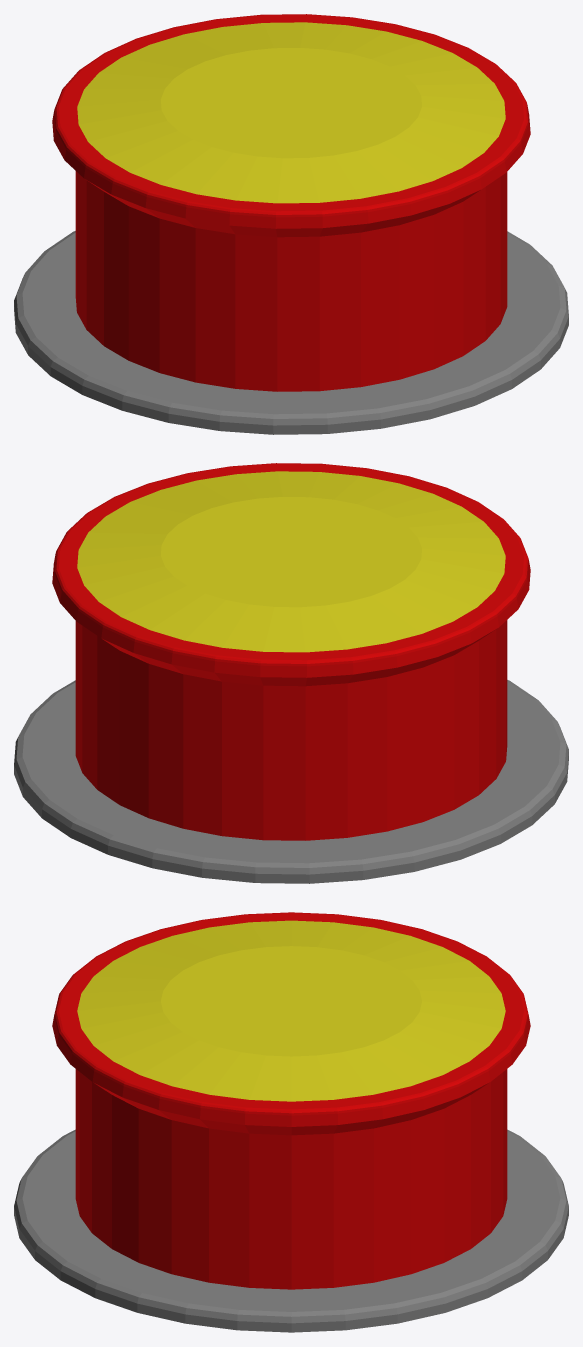
The model's file is push.fbx.
3 views of the same model, one above another, from view 1: azimuth 30°, elevation 25°; view 2: azimuth 150°, elevation 25°; view 3: azimuth 270°, elevation 25° (orthographic).
Parts seen in each view (by area): view 1: Circle.001, Circle; view 2: Circle.001, Circle; view 3: Circle.001, Circle.
Part boxes in pixels (<box>): Circle.001: <box>52,14,530,391</box>; Circle: <box>14,231,568,434</box>; Circle.001: <box>52,463,530,840</box>; Circle: <box>14,680,568,883</box>; Circle.001: <box>52,912,530,1289</box>; Circle: <box>14,1129,568,1332</box>.
Bounding box in the file's own units: 200 × 85.1 × 200.
